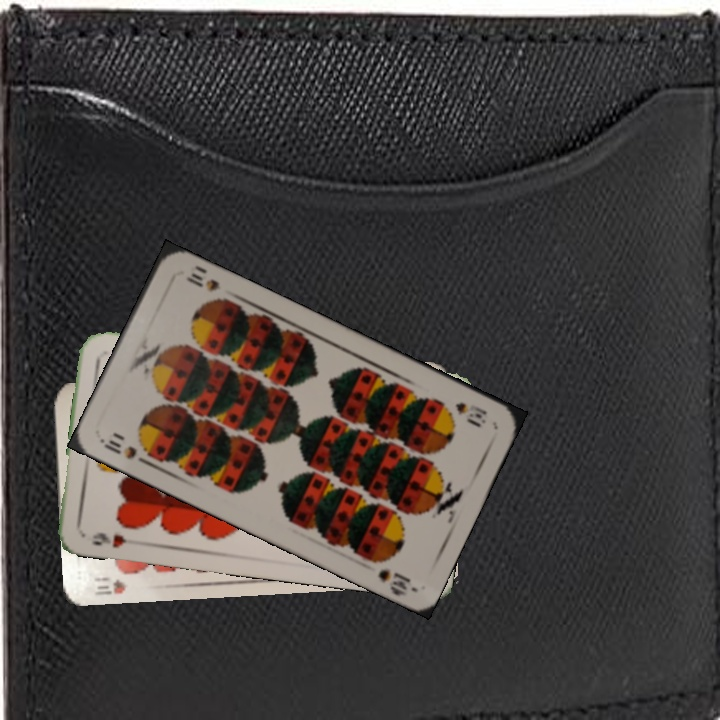H10: (90, 572, 129, 598)
H9: (88, 528, 129, 550)
S10: (97, 434, 153, 469), (450, 398, 490, 428)
